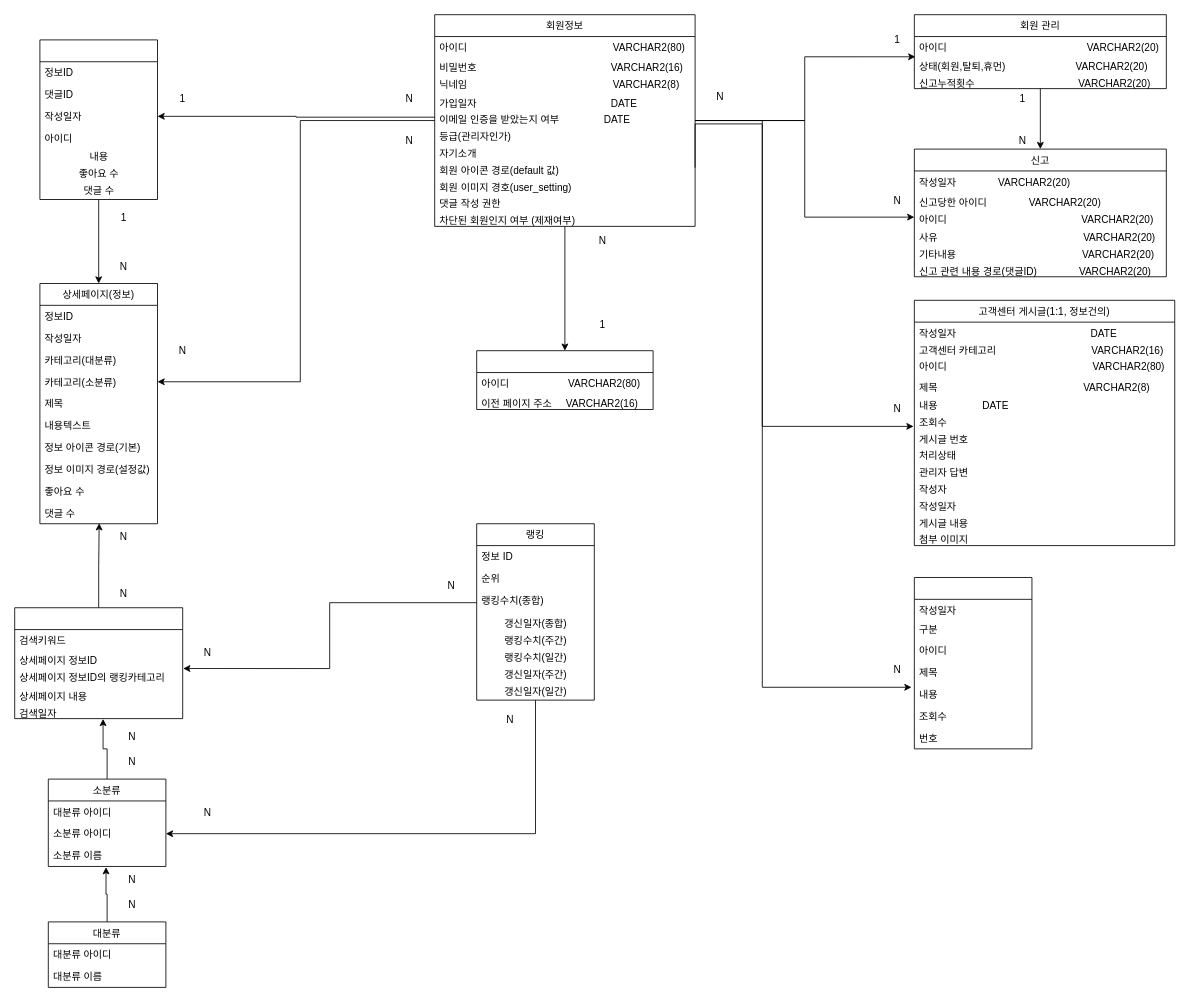
The diagram is 1189 pixels wide and 1005 high, and some of its shapes have lost their labels. Here are the shapes that lost their labels. From the top down, the box of each, then its label:
(39, 39, 158, 200): 댓글
(476, 350, 653, 410): 로그인정보
(14, 607, 183, 719): 검색
(914, 577, 1032, 749): 공지
